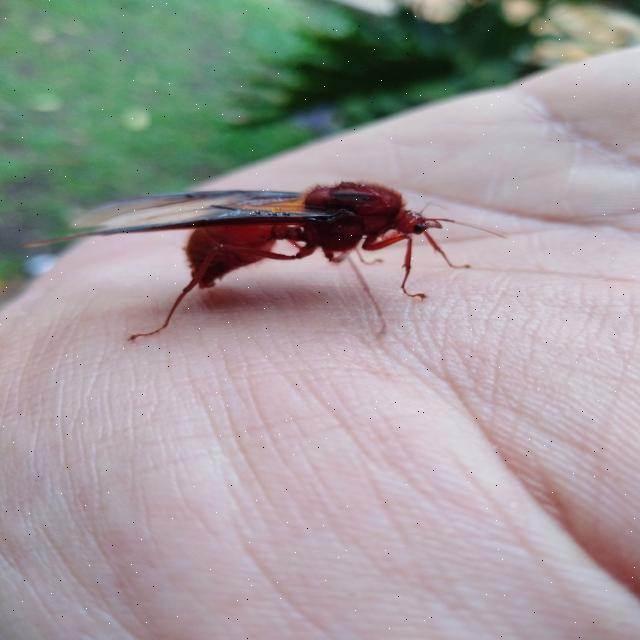Alive-Male-Alate: (23, 180, 506, 344)
